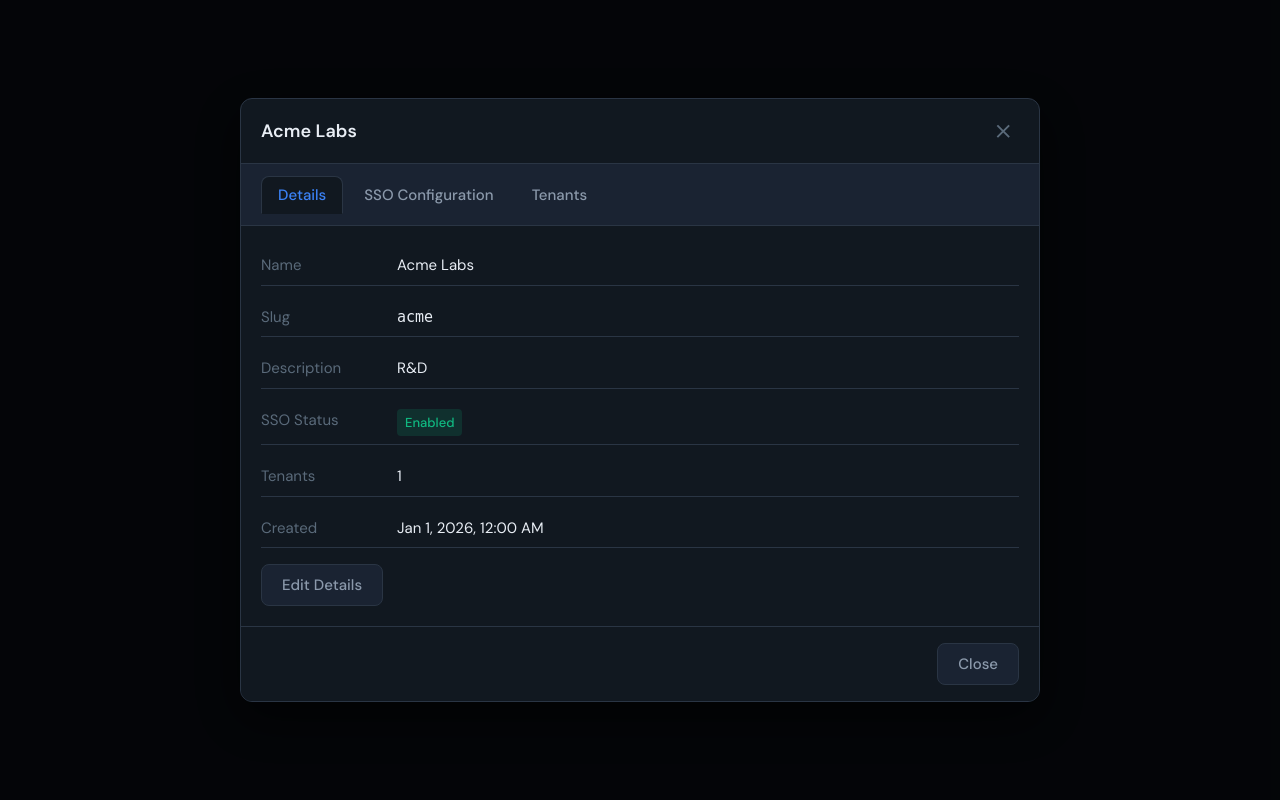
Scenario: details tab › keeps the form open and shows the error when saving fails; Cancel restores
The image size is (1280, 800).
Expected: the heading "Acme Labs" is shown, x1=261 y1=120 x2=357 y2=142
Click the button "Edit Details" at (322, 585), box x1=261 y1=564 x2=383 y2=606
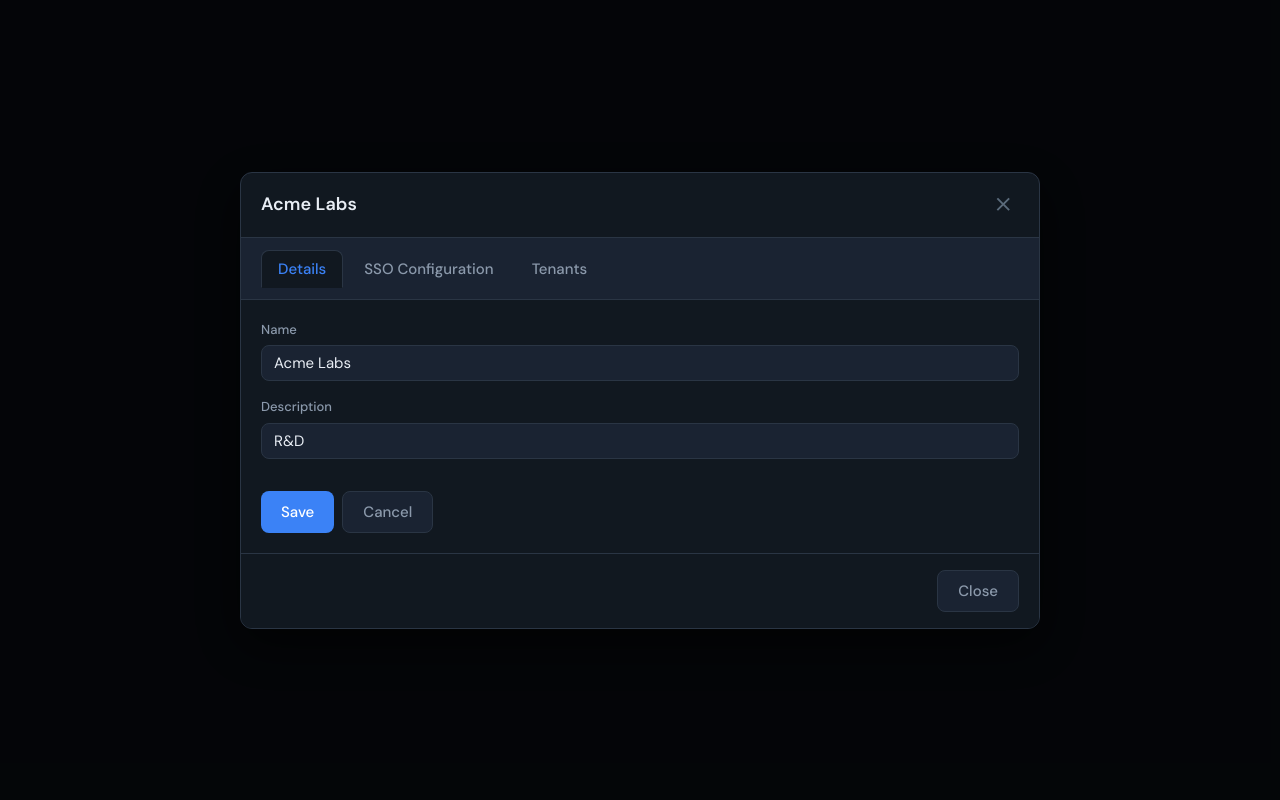
Replace the text in the field labelled "Name" with "Dup" at (640, 363), box x1=261 y1=345 x2=1019 y2=381
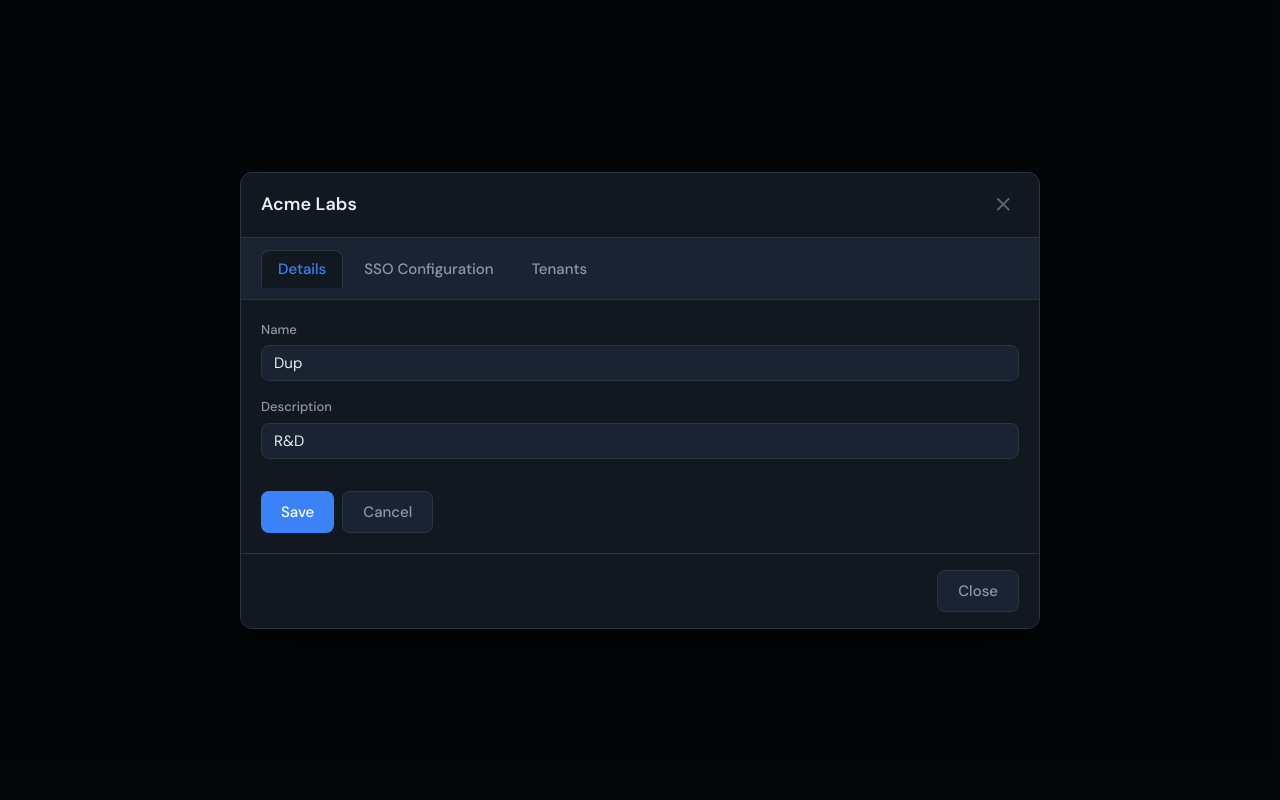
Click the button "Save" at (298, 512), box x1=261 y1=490 x2=334 y2=532
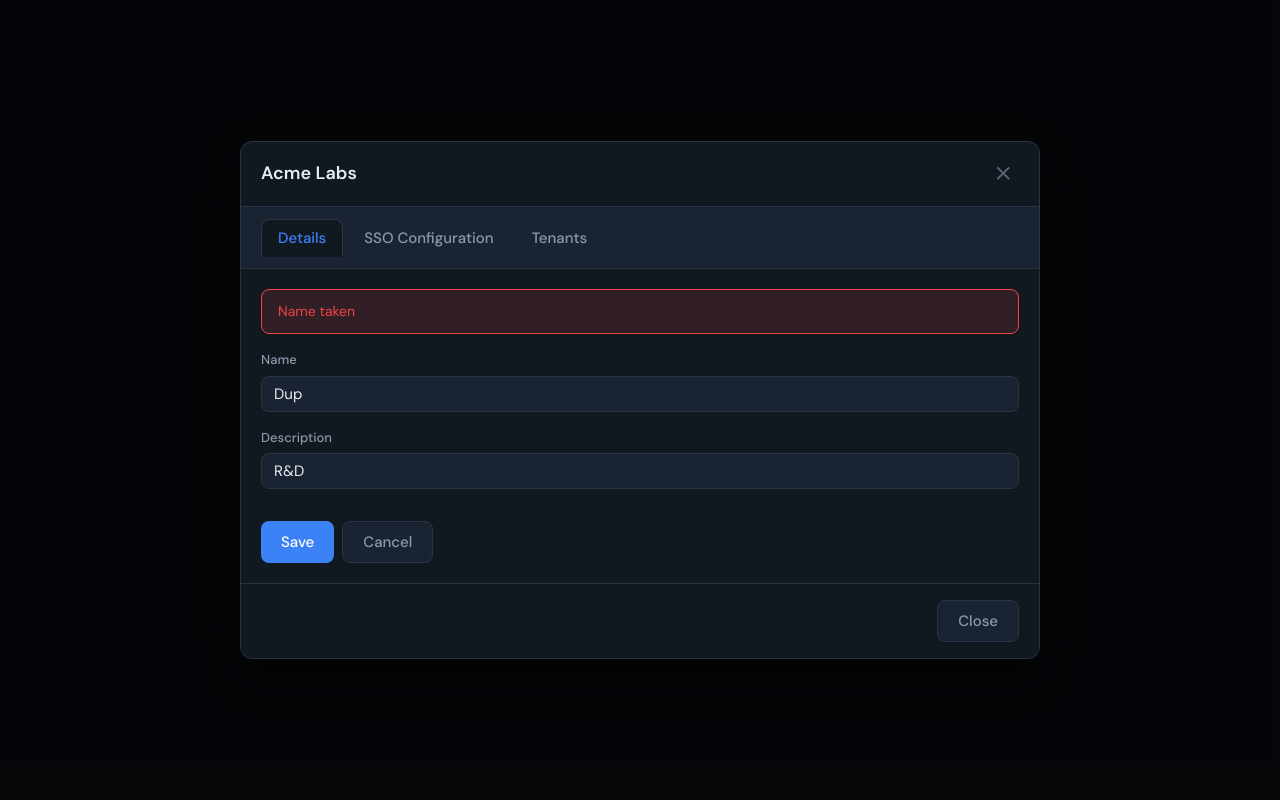
Expected: the text "Name taken" is shown, x1=278 y1=302 x2=355 y2=320
Click the button "Cancel" at (388, 542), box x1=342 y1=521 x2=433 y2=563
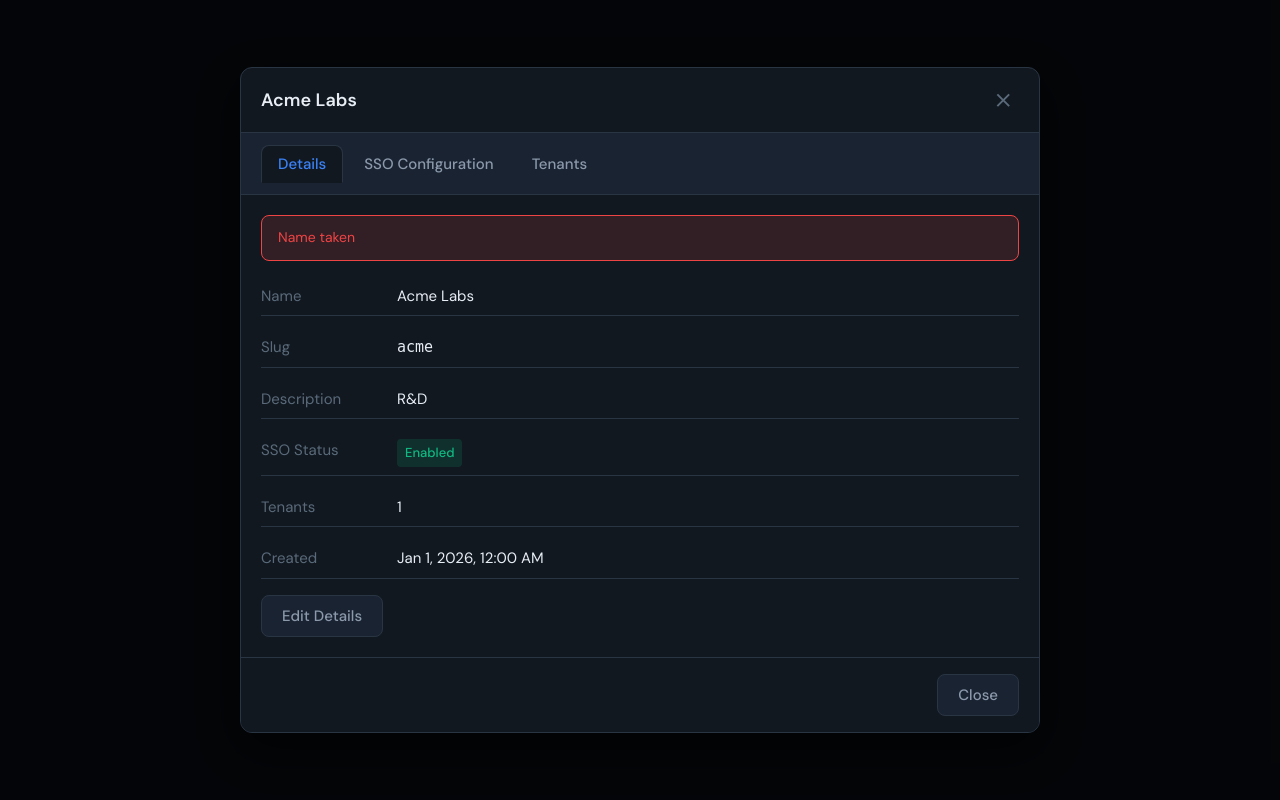
Click the button "Edit Details" at (322, 616), box x1=261 y1=595 x2=383 y2=637
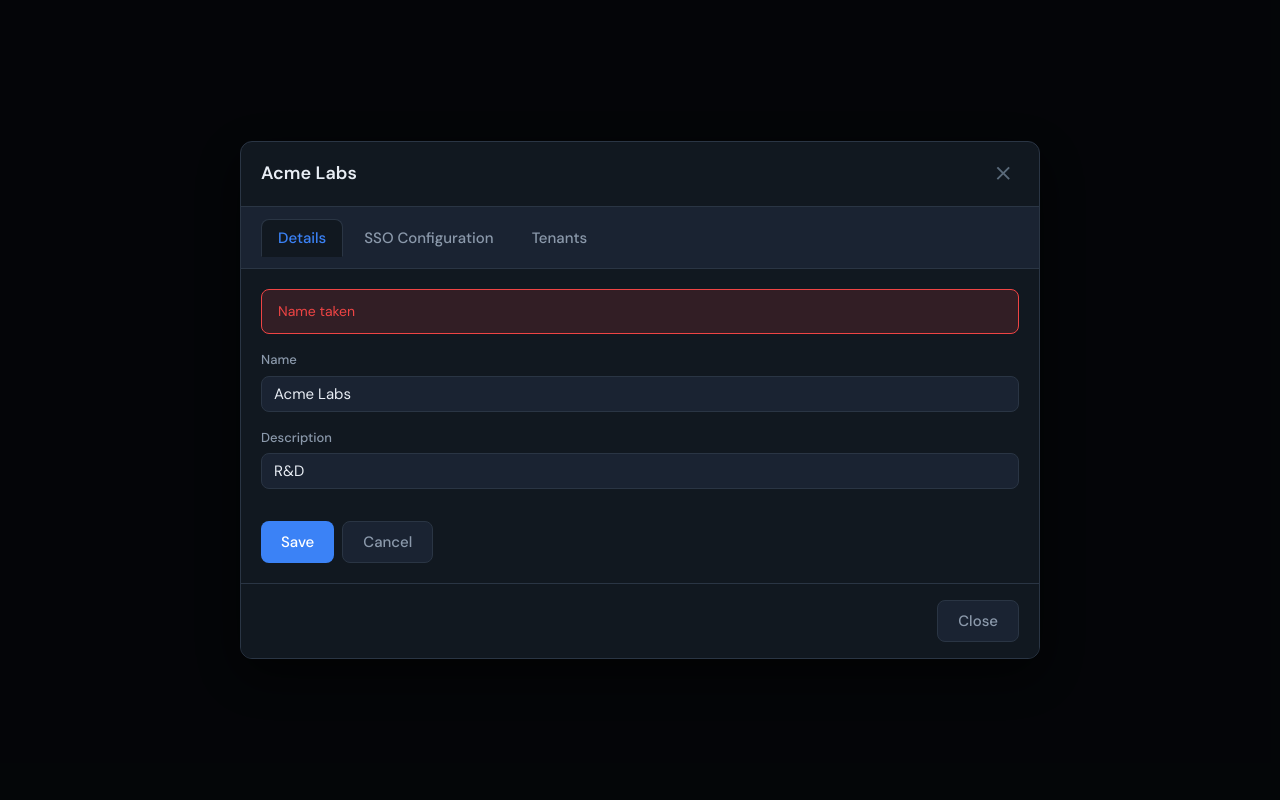
Expected: the field labelled "Name" holds "Acme Labs", x1=261 y1=376 x2=1019 y2=412
